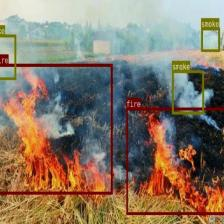fire: (0, 64, 112, 194), (125, 107, 224, 214)
smoke: (172, 70, 204, 114), (0, 34, 15, 79), (200, 27, 220, 51)
